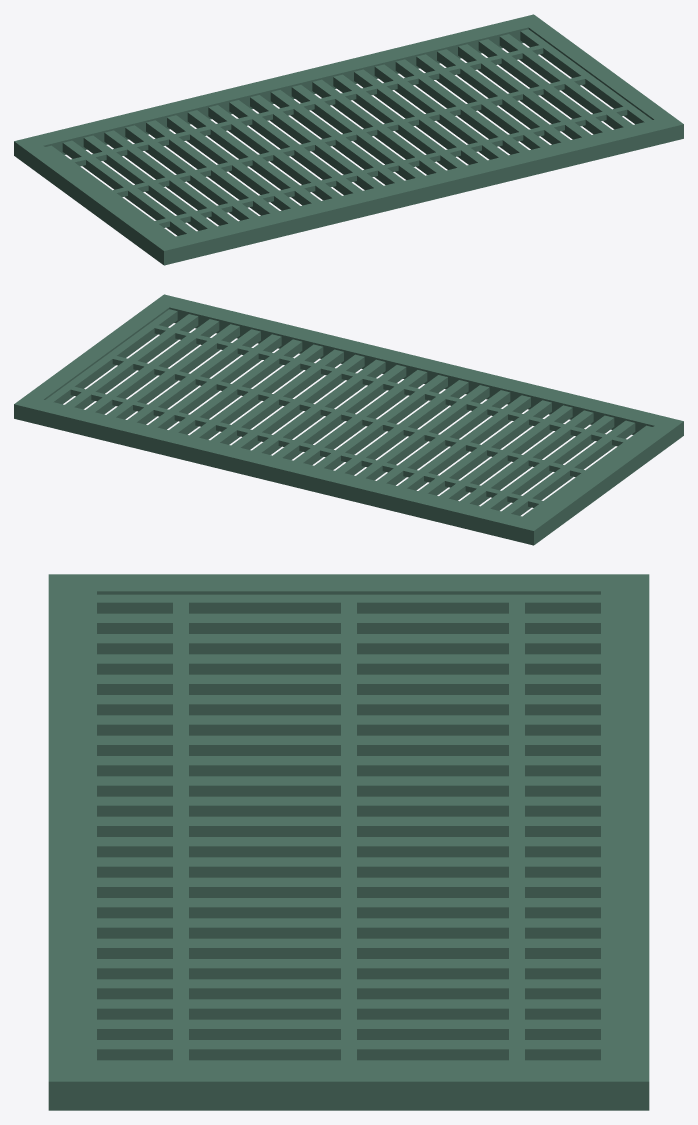
Rendered from botanical-glasshouse-and-palm-house-botanical-glasshou-62cc69e3__38553.glb.
3 renders of one model, top to bottom at view 1: azimuth 30°, elevation 25°; view 2: azimuth 150°, elevation 25°; view 3: azimuth 270°, elevation 25°, orthographic. The views are drawn at different scales.
Parts seen in each view (by area): view 1: botanical-glasshouse-and-palm-house-grated-floor-section; view 2: botanical-glasshouse-and-palm-house-grated-floor-section; view 3: botanical-glasshouse-and-palm-house-grated-floor-section.
Boxes of the visible parts, <box> form: botanical-glasshouse-and-palm-house-grated-floor-section: <box>14,14,683,265</box>; botanical-glasshouse-and-palm-house-grated-floor-section: <box>14,294,683,545</box>; botanical-glasshouse-and-palm-house-grated-floor-section: <box>48,574,649,1110</box>.
Size of the model in its own units: 3 by 0.0798 by 1.5.
